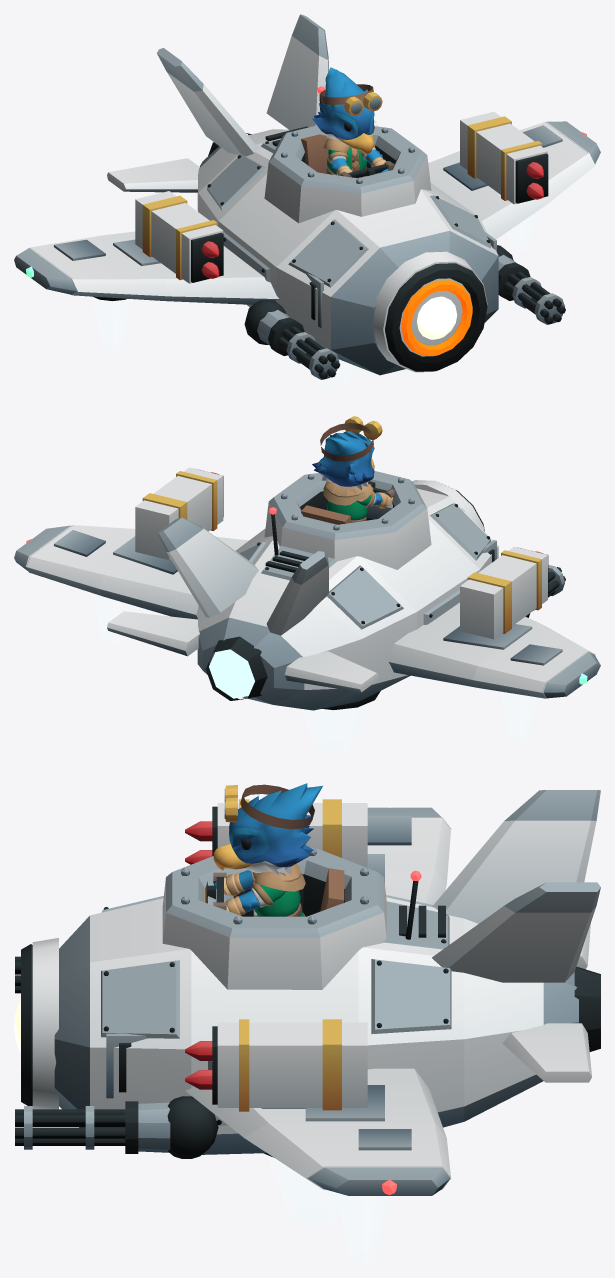
The model's file is aviator_gunship.glb.
The picture shows the model from 3 angles, top to bottom: view 1: azimuth 30°, elevation 25°; view 2: azimuth 150°, elevation 25°; view 3: azimuth 270°, elevation 25°; orthographic projection. The views are drawn at different scales.
Parts seen in each view (by area): view 1: Hull, CockpitRim, Wing_R, ArmorPlates, Wing_L, TailFin_L, LaserOuterRing, LaserHousing, RocketPodBody_R, RocketPodBody_L, TailFin_R, AvianSwordsman_Head (+20 smaller); view 2: Hull, CockpitRim, Wing_R, Wing_L, ArmorPlates, TailFin_L, RocketPodBody_R, RocketPodBody_L, TailFin_R, Stabilizer_L, Stabilizer_R, AvianSwordsman_Head (+20 smaller); view 3: Hull, CockpitRim, ArmorPlates, Wing_L, TailFin_R, TailFin_L, RocketPodBody_L, AvianSwordsman_Head, Wing_R, LaserHousing, Stabilizer_L, WingTip_L (+25 smaller).
Boxes of the visible parts, x1,y1,x2,y2 form: Hull: [197, 129, 498, 375]; CockpitRim: [264, 125, 431, 223]; Wing_R: [29, 231, 279, 304]; ArmorPlates: [207, 139, 490, 287]; Wing_L: [428, 121, 595, 239]; TailFin_L: [266, 14, 328, 130]; LaserOuterRing: [385, 263, 487, 371]; LaserHousing: [372, 251, 487, 372]; RocketPodBody_R: [135, 191, 223, 283]; RocketPodBody_L: [460, 112, 547, 204]; TailFin_R: [157, 48, 258, 156]; AvianSwordsman_Head: [312, 67, 374, 154]; Hull: [197, 488, 498, 710]; CockpitRim: [264, 471, 431, 569]; Wing_R: [389, 602, 595, 698]; Wing_L: [25, 525, 248, 619]; ArmorPlates: [239, 503, 490, 629]; TailFin_L: [157, 517, 258, 617]; RocketPodBody_R: [460, 546, 547, 639]; RocketPodBody_L: [135, 467, 223, 559]; TailFin_R: [266, 551, 329, 635]; Stabilizer_L: [107, 611, 199, 656]; Stabilizer_R: [285, 651, 378, 692]; AvianSwordsman_Head: [312, 431, 374, 490]; Hull: [54, 897, 578, 1154]; CockpitRim: [162, 848, 386, 989]; ArmorPlates: [101, 895, 451, 1125]; Wing_L: [186, 1068, 451, 1189]; TailFin_R: [432, 790, 600, 923]; TailFin_L: [432, 882, 600, 982]; RocketPodBody_L: [217, 1022, 367, 1107]; AvianSwordsman_Head: [213, 783, 322, 876]; Wing_R: [367, 817, 451, 904]; LaserHousing: [32, 938, 58, 1109]; Stabilizer_L: [502, 1023, 591, 1082]; WingTip_L: [308, 1166, 450, 1195].
Size of the model in its own units: 10.18 by 5.43 by 6.66.
Materials: 9 (3 with a texture image).
